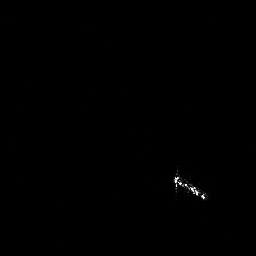ship: (169, 166, 212, 204)
